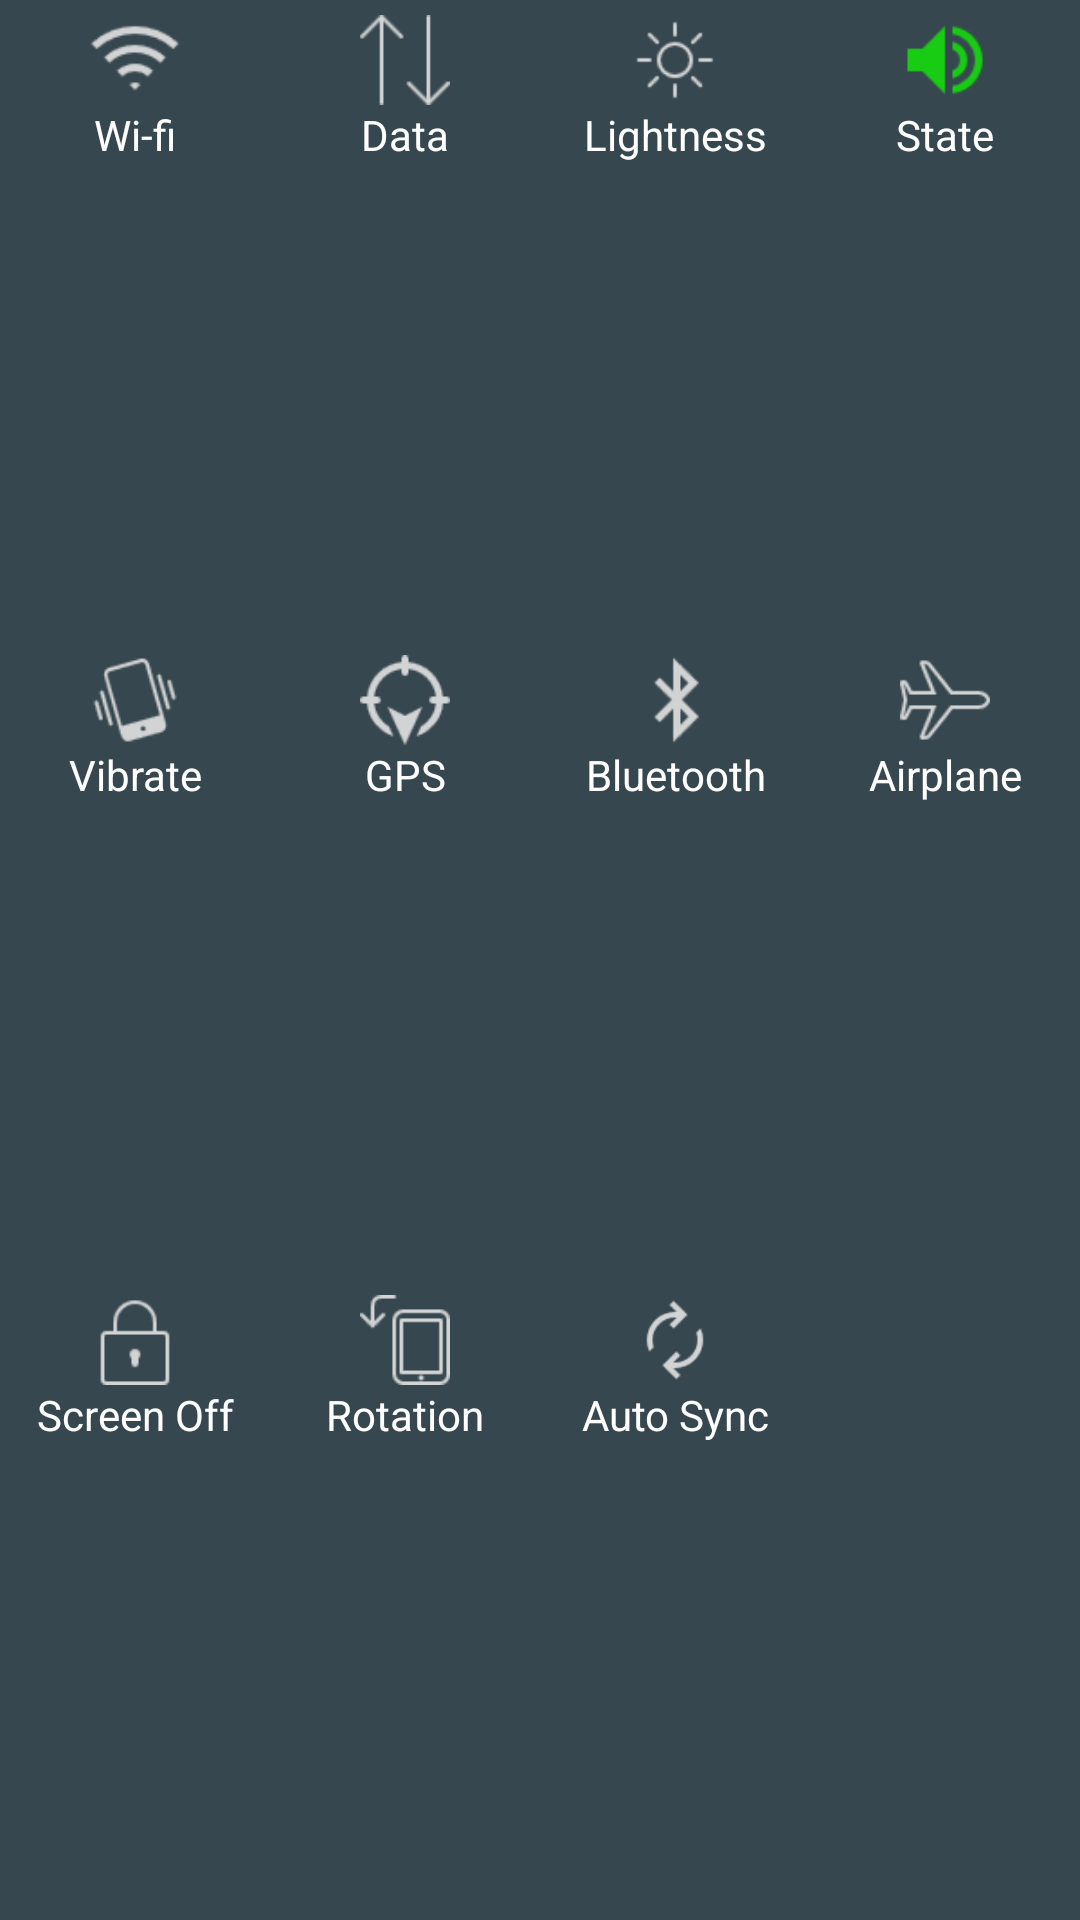

Locate icon controls on the screen. Image size 1080 × 1920, boxes as (x1, y1, x2, y2).
ringer: (907, 26, 983, 94)
tool timeout: (100, 1300, 170, 1385)
